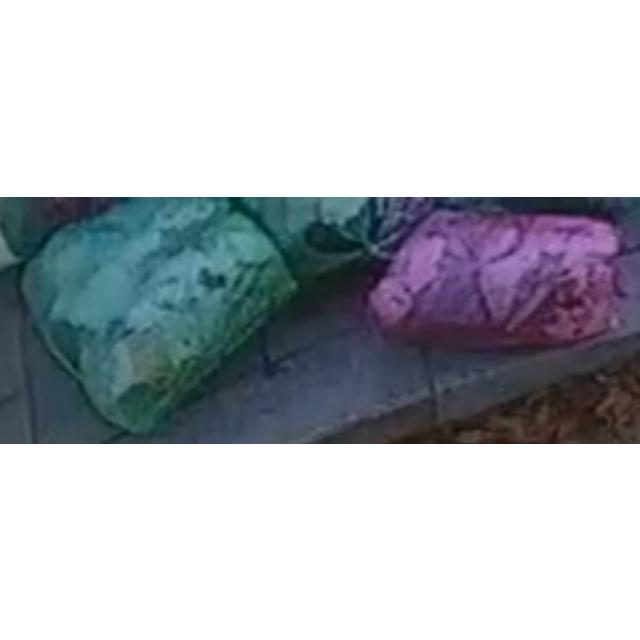general_trashbag: (24, 198, 296, 432), (236, 198, 434, 277)
other_trashbag: (369, 210, 632, 347)
